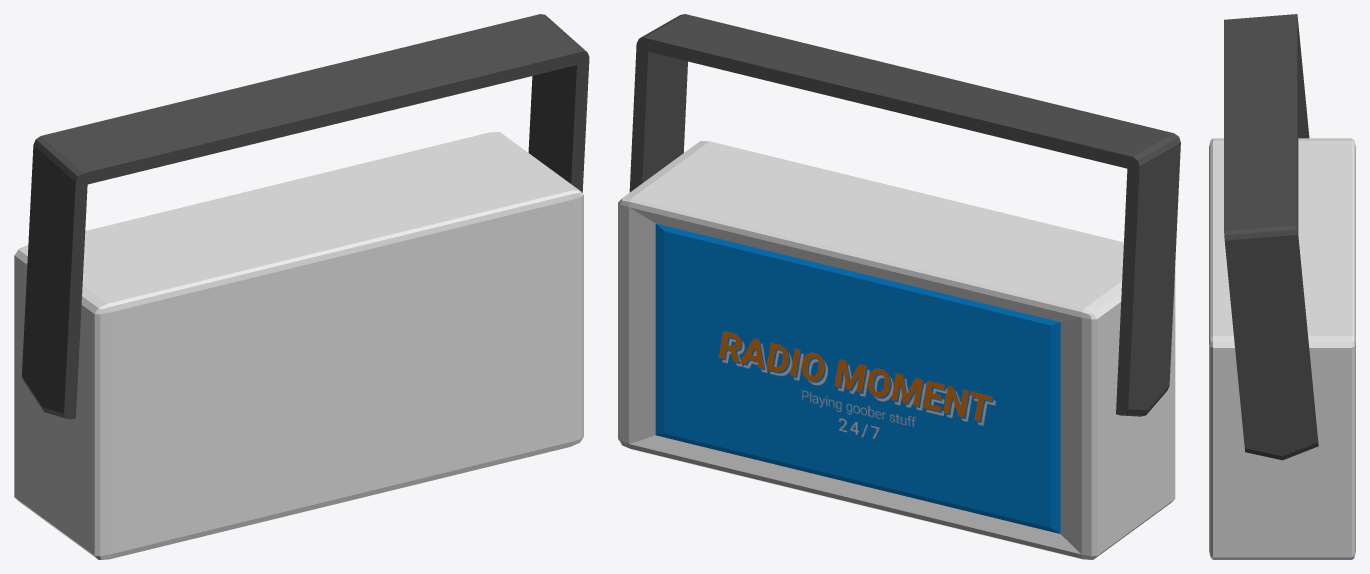
The model's file is Radio.fbx.
The picture shows the model from 3 angles, left to right: view 1: azimuth 30°, elevation 25°; view 2: azimuth 150°, elevation 25°; view 3: azimuth 270°, elevation 25°; orthographic projection. The views are drawn at different scales.
Parts seen in each view (by area): view 1: Cube.001; view 2: Cube.001; view 3: Cube.001.
Part boxes in pixels (<box>): Cube.001: <box>14,14,589,559</box>; Cube.001: <box>618,14,1180,559</box>; Cube.001: <box>1209,14,1355,559</box>.
Bounding box in the file's own units: 101 × 73.52 × 28.75.
